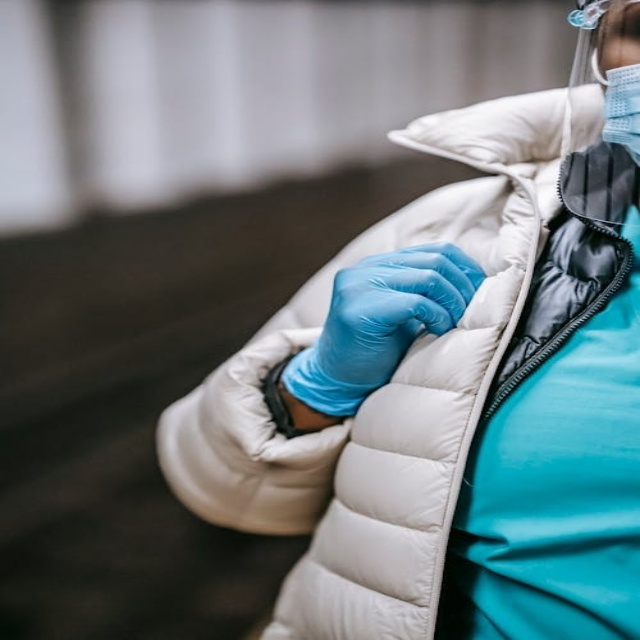Guantes: (280, 240, 486, 418)
Mascara: (599, 62, 640, 164)
